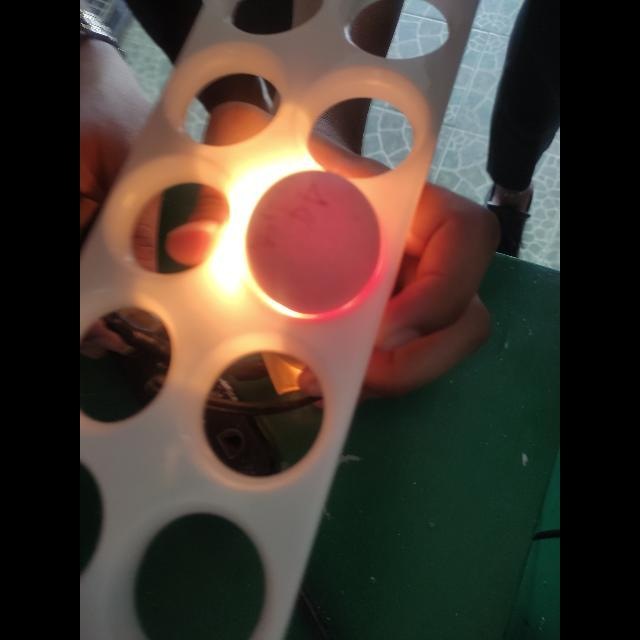Fertile: (243, 170, 384, 320)
